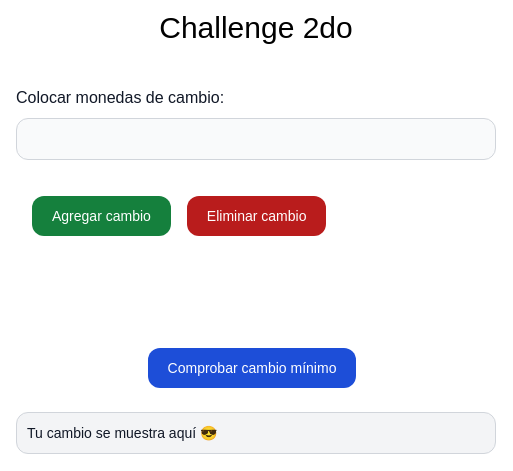
Test: SecondChallengeScreen › should show an error when entering an invalid value
In the field labelled "Colocar monedas de cambio:": (256, 139) [16,118,496,160], type "abc"
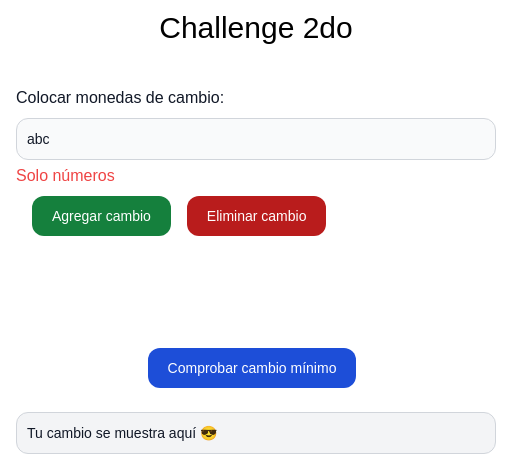
Now the text "Solo números" is shown, box [16,164,115,188]
